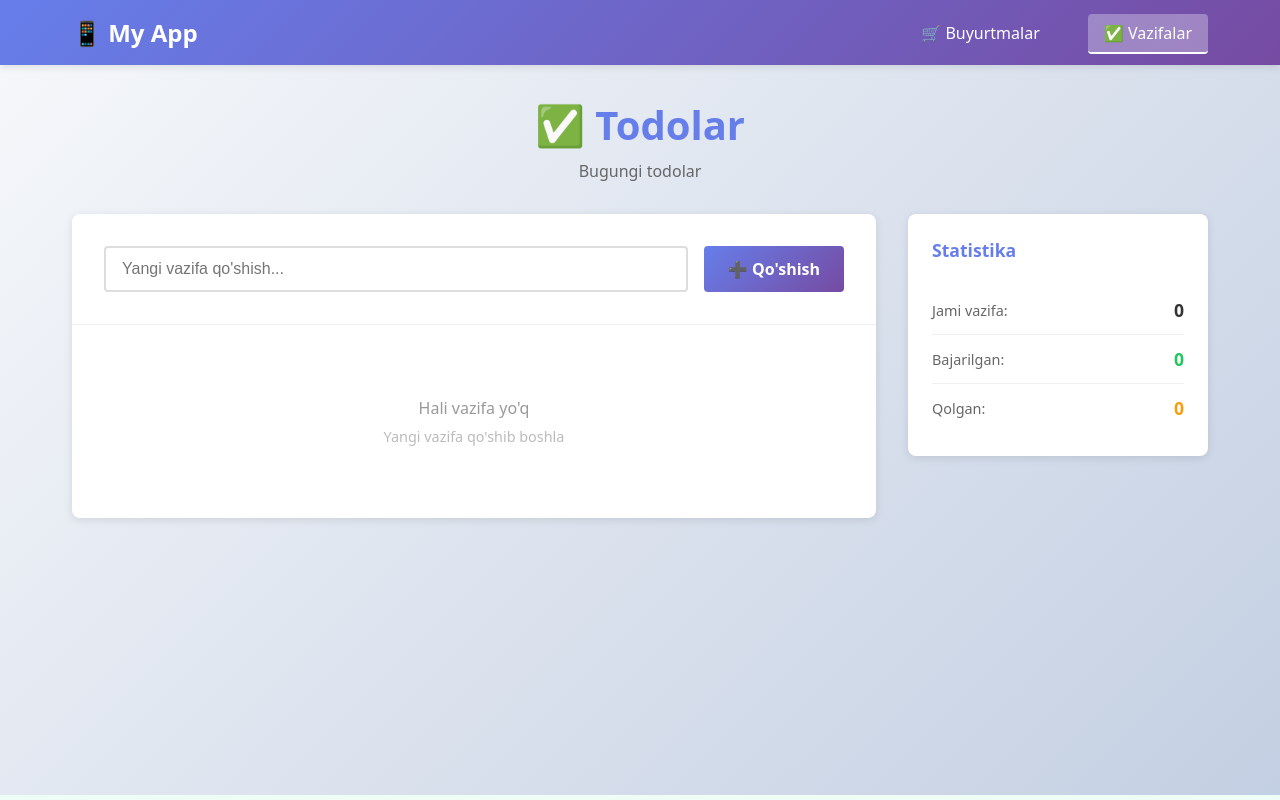
Test case: Todo App › todo ochirish
This screenshot has width=1280, height=800.
Type "Cypress todo" into the field with placeholder "Yangi vazifa qo'shish...". click: (396, 269)
box: 104,246 -> 688,292
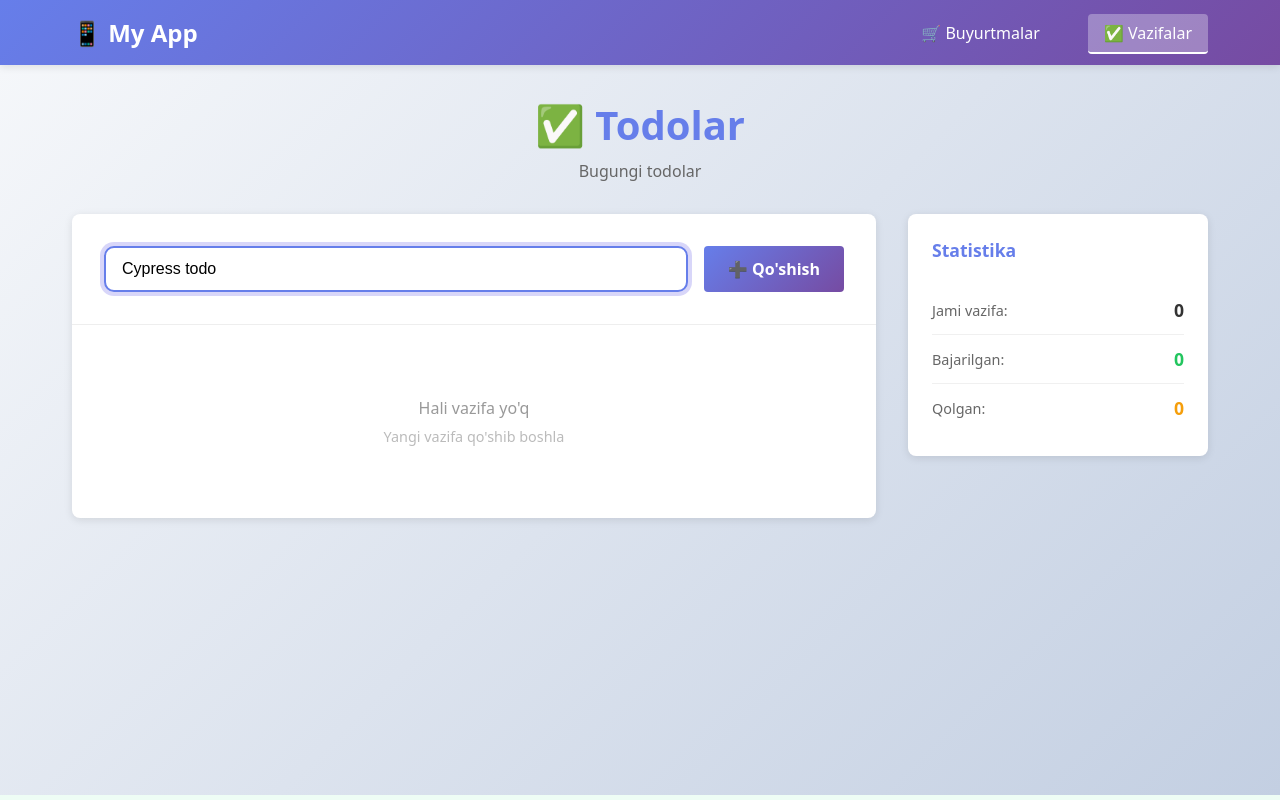
Click the button "➕ Qo'shish". click: (774, 269)
box: 704,246 -> 844,292
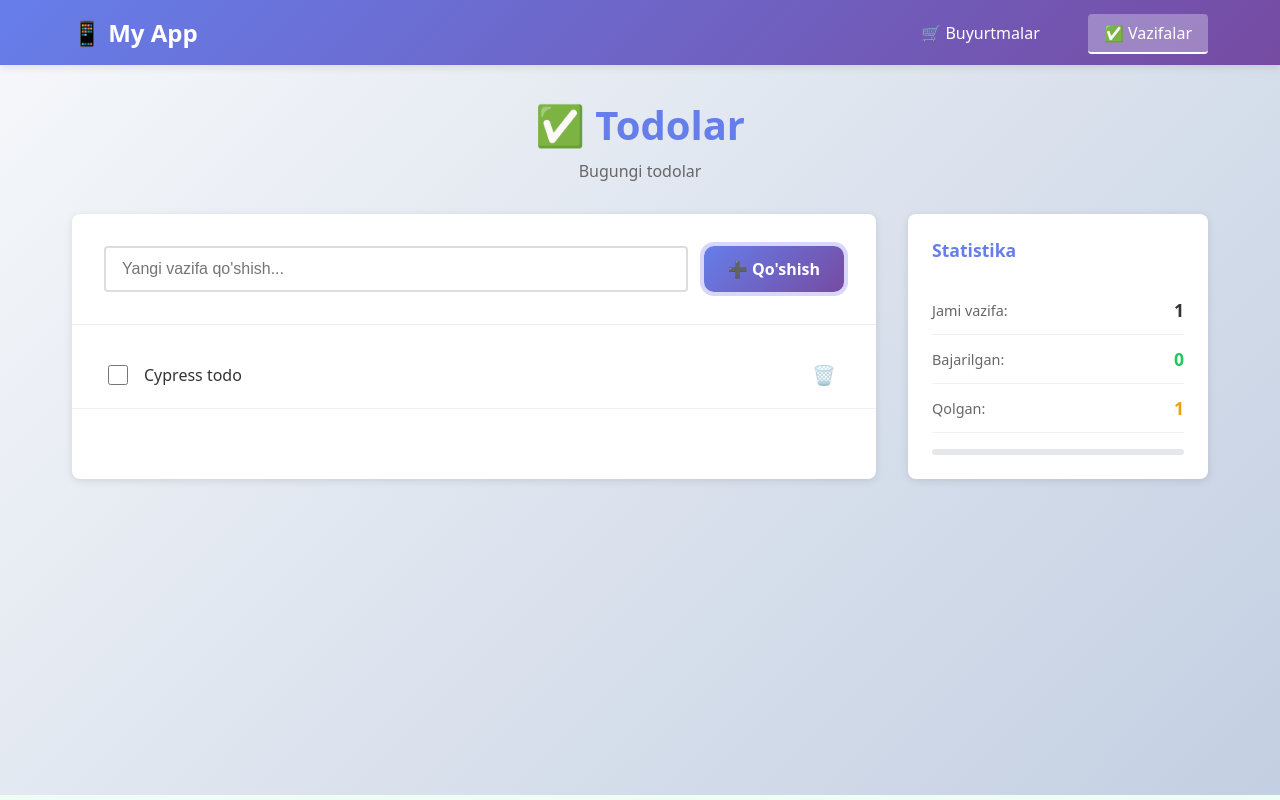
expect the text "Cypress todo" is shown: met, box 144,364 -> 242,386
Click the button "🗑️". click: (824, 375)
box: 804,357 -> 844,392
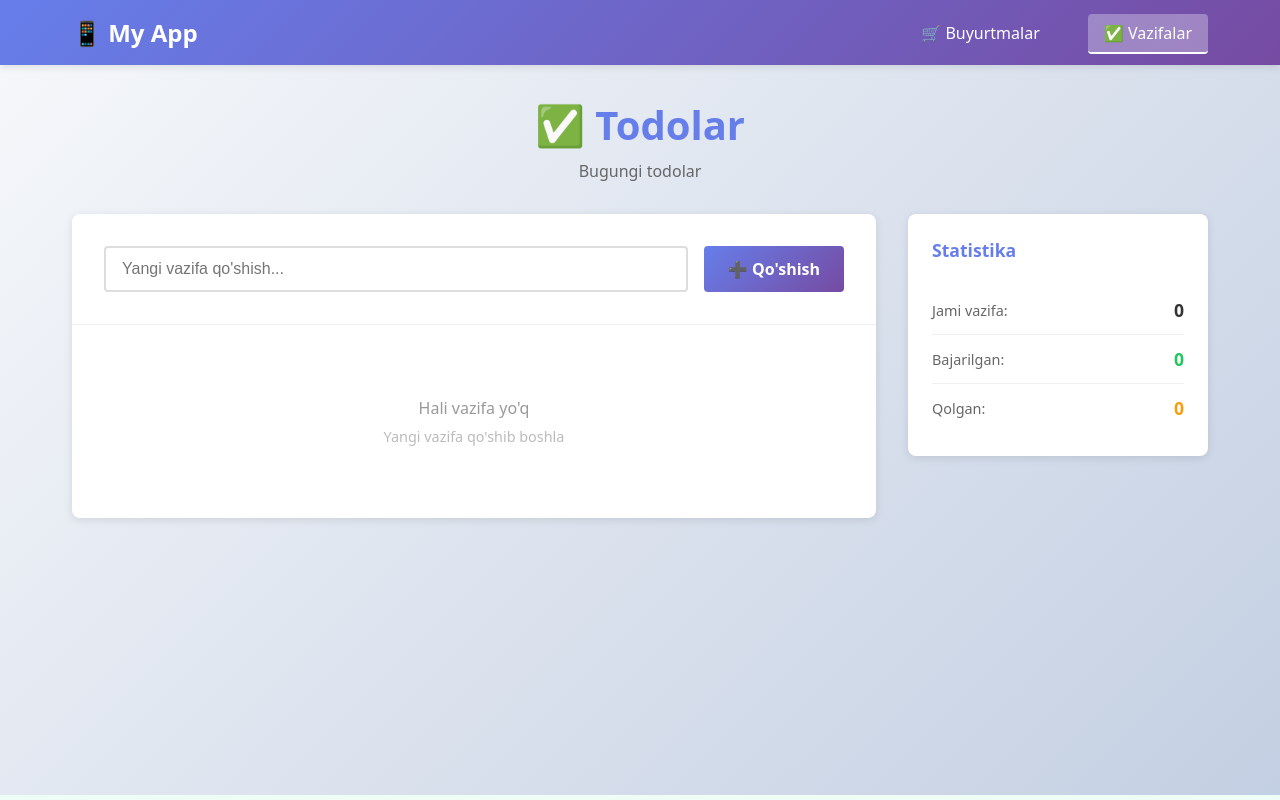
expect the text "Cypress todo" is gone: met
